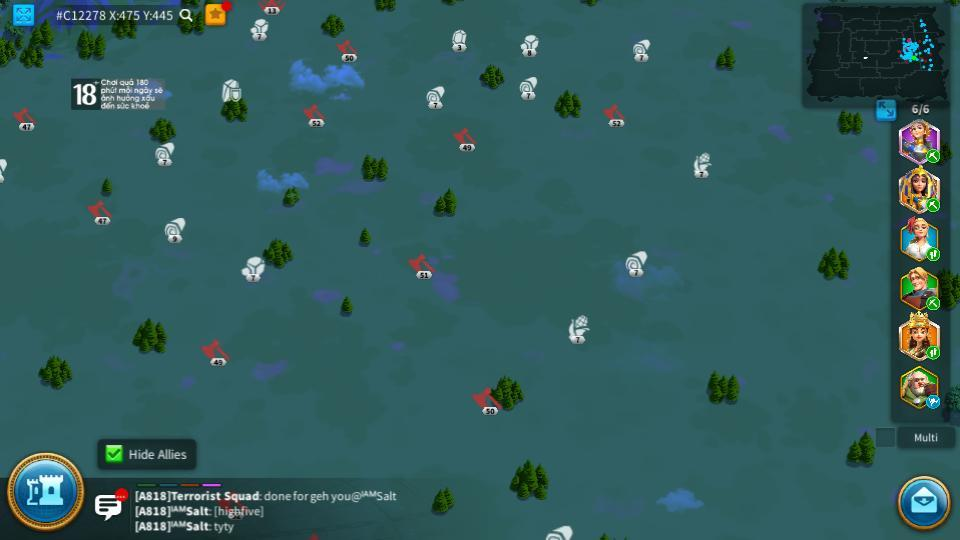gem-z-out: (451, 28, 468, 50)
march_farming: (925, 197, 941, 212), (925, 248, 941, 261)
march_idle: (925, 396, 942, 408)
march_marching: (925, 347, 942, 359), (925, 150, 942, 162), (926, 297, 941, 308)
